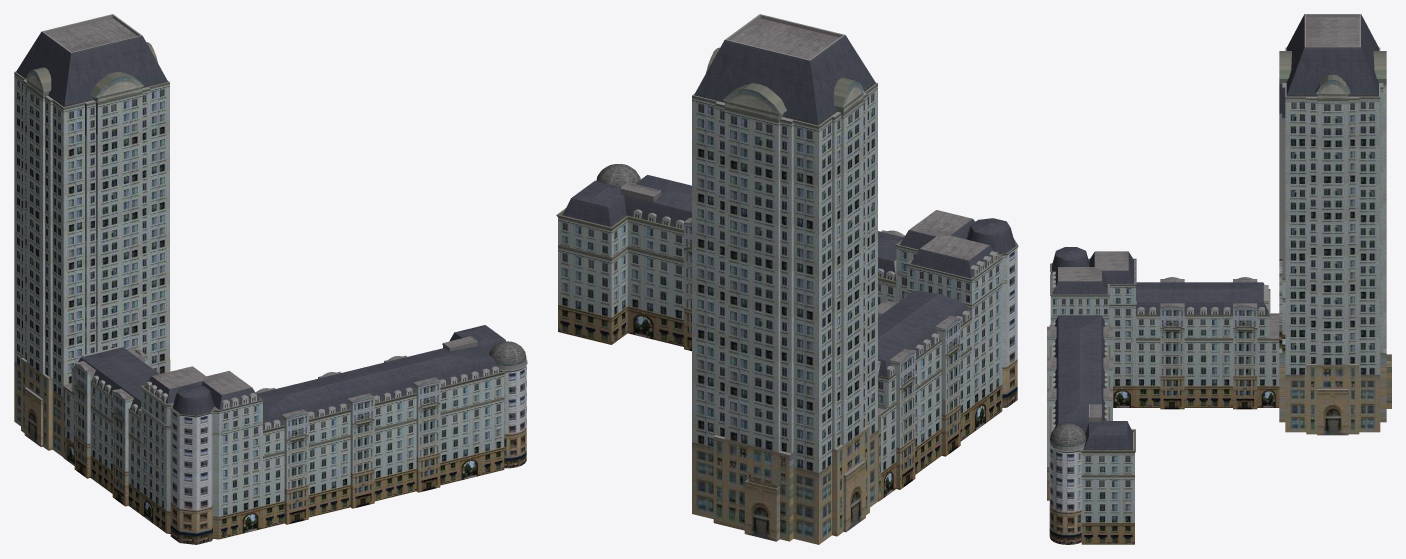
3 renders of one model, left to right at view 1: azimuth 30°, elevation 25°; view 2: azimuth 150°, elevation 25°; view 3: azimuth 270°, elevation 25°, orthographic. The views are drawn at different scales.
Visible parts, largest first — view 1: HN1351_ButterflyKindergarden; view 2: HN1351_ButterflyKindergarden; view 3: HN1351_ButterflyKindergarden.
Part boxes in pixels (x1,y1,x2,y2): HN1351_ButterflyKindergarden: (14,14,527,544); HN1351_ButterflyKindergarden: (556,14,1018,544); HN1351_ButterflyKindergarden: (1047,14,1391,544).
Size of the model in its own units: 107 by 113 by 94.02.
1 material, 1 textured.
